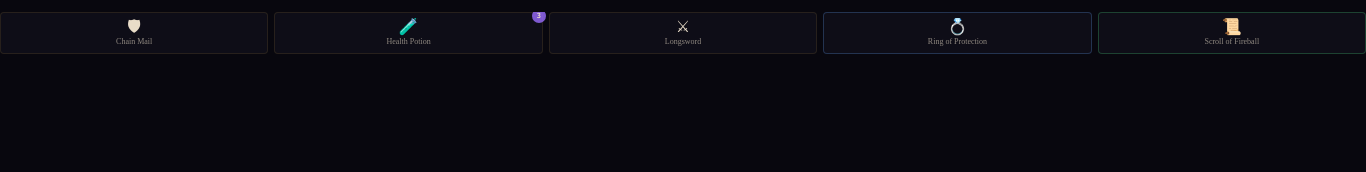
Test: InventoryList › interactions › should show "Drink" for potion context menu
The width and height of the screenshot is (1366, 172).
Right-click the button labelled "🧪 Health Potion 3": x=409, y=33 [274,12,543,54]
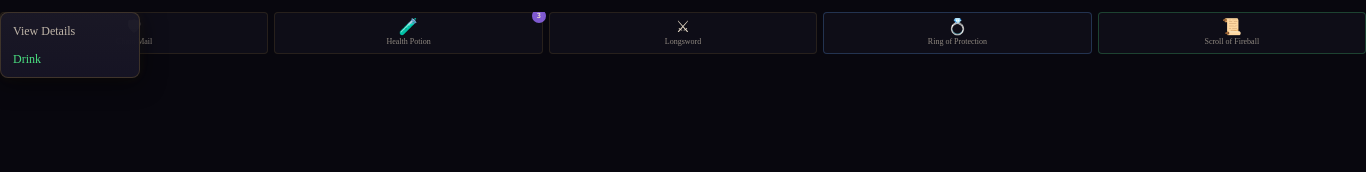
Now the button "Drink" is shown, box [1,45,139,73]
